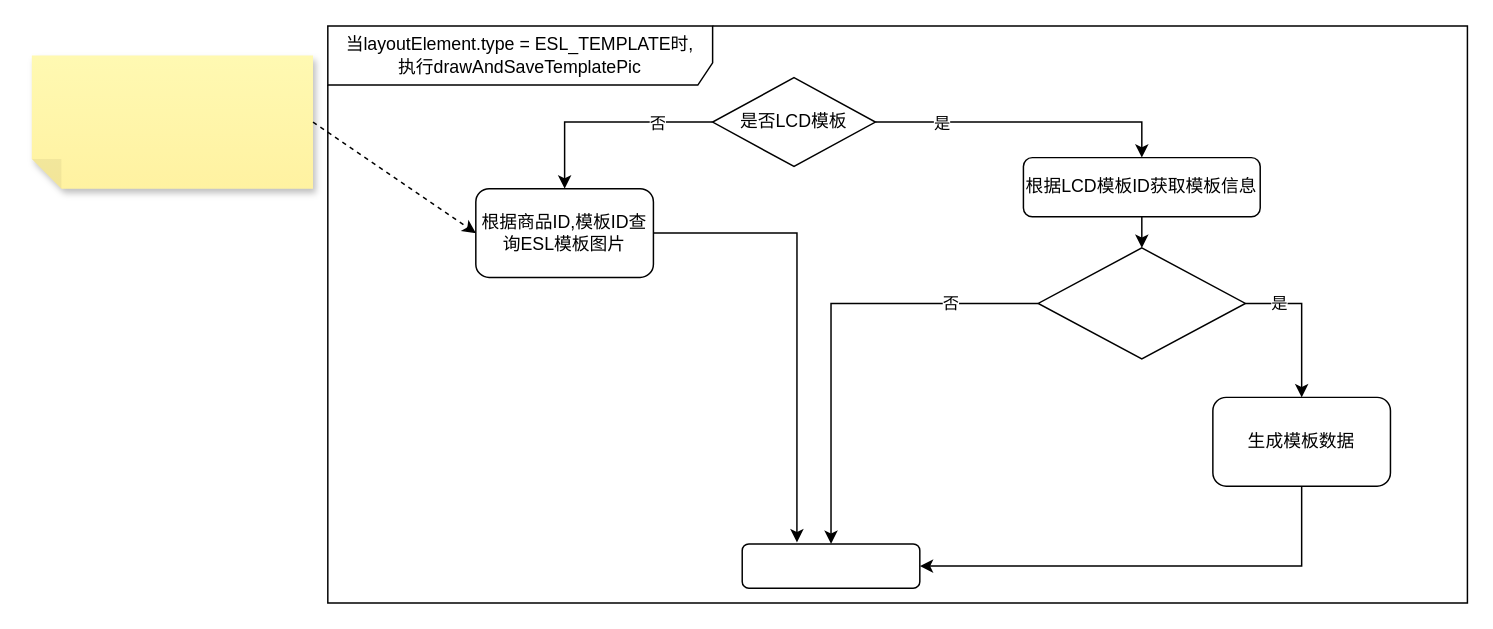
Image size: 1493x629. Some labels were removed from this diagram. The shapes that lost their labels are listed below. From the top down, each one's centre as x and y in pixels, then its label:
At point (173, 123): "1.为什么使用ESL模板？".
At point (1141, 302): "根据商品, 模板信息MD5一致性校验".
At point (830, 565): "结束".
